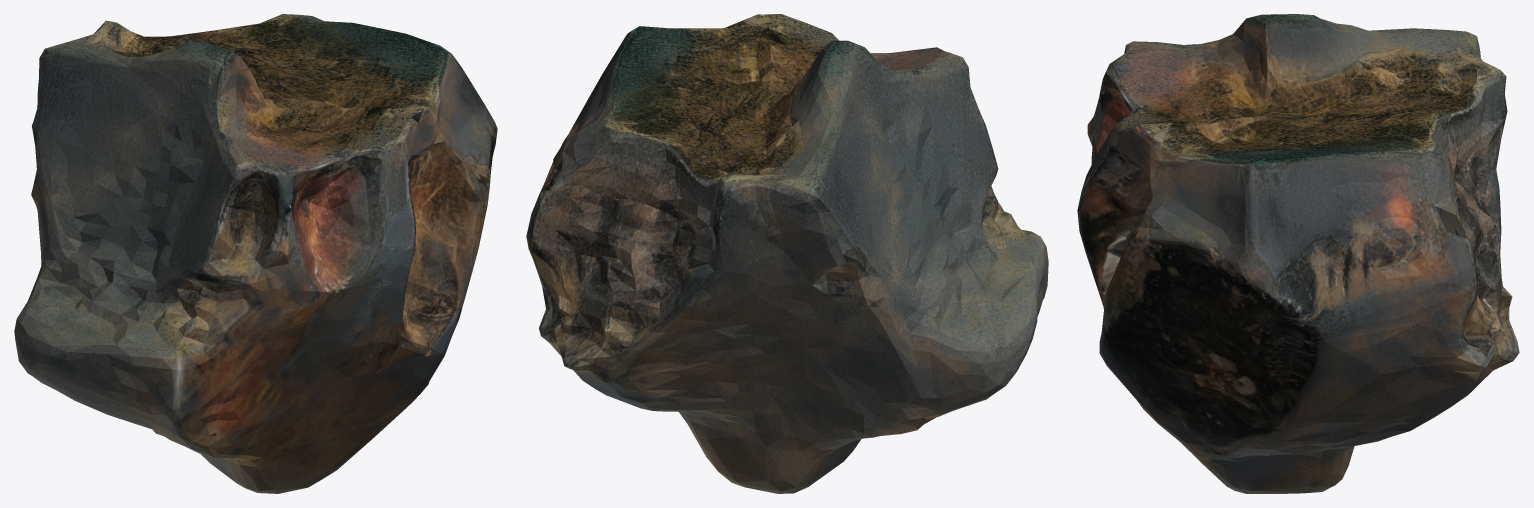
The model's file is heavy_minerals_001.glb.
The picture shows the model from 3 angles, left to right: view 1: azimuth 30°, elevation 25°; view 2: azimuth 150°, elevation 25°; view 3: azimuth 270°, elevation 25°; orthographic projection.
Visible parts, largest first — view 1: tripo_node_db6f6639-bf0a-42d9-ae3d-f688dfc82d0b; view 2: tripo_node_db6f6639-bf0a-42d9-ae3d-f688dfc82d0b; view 3: tripo_node_db6f6639-bf0a-42d9-ae3d-f688dfc82d0b.
Part boxes in pixels (left/top/right/bottom): tripo_node_db6f6639-bf0a-42d9-ae3d-f688dfc82d0b: left=14, top=14, right=497, bottom=493; tripo_node_db6f6639-bf0a-42d9-ae3d-f688dfc82d0b: left=526, top=14, right=1048, bottom=493; tripo_node_db6f6639-bf0a-42d9-ae3d-f688dfc82d0b: left=1077, top=14, right=1519, bottom=493.
Size of the model in its own units: 0.9409 by 0.8738 by 0.7922.
1 material, 1 textured.
